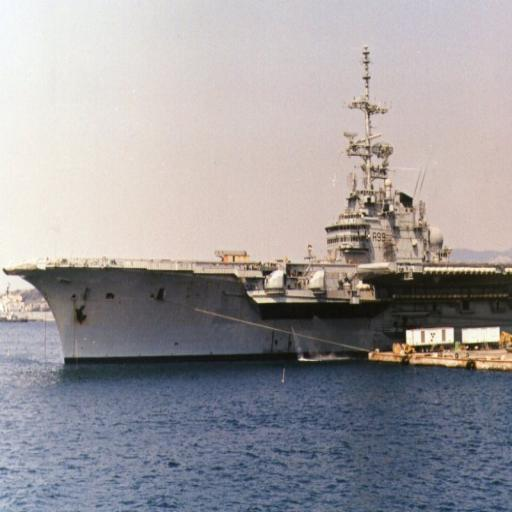Portanaves: (3, 38, 512, 375)
